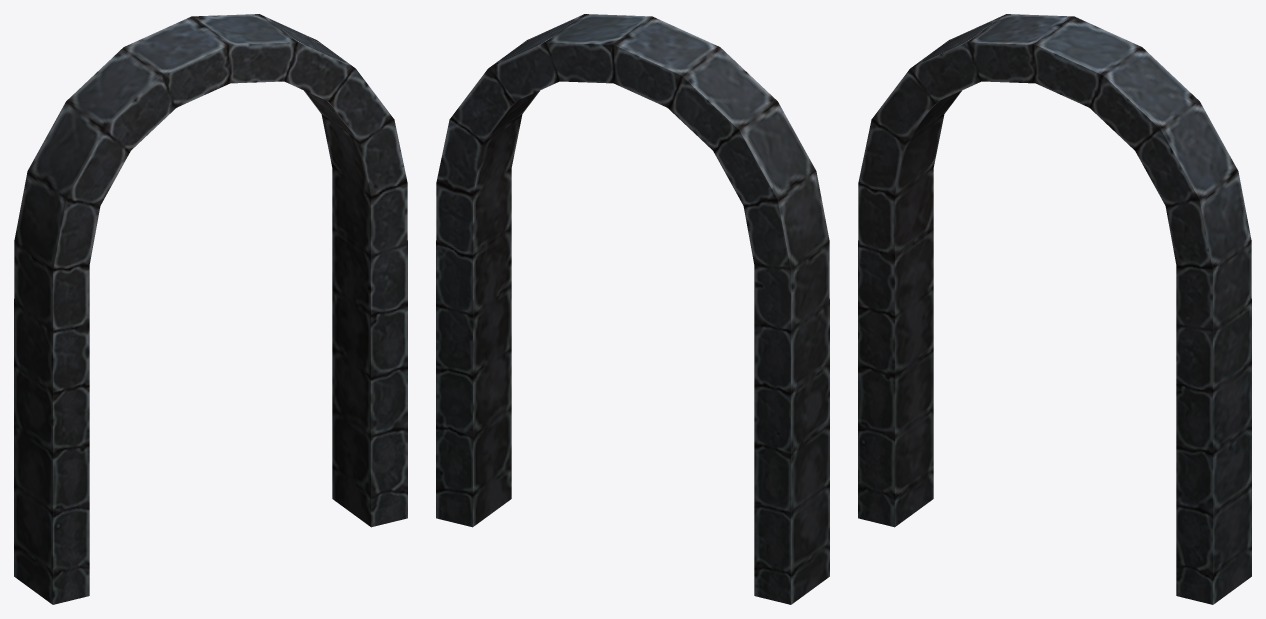
Rendered from Arc_Solo (1).fbx.
3 renders of one model, left to right at view 1: azimuth 30°, elevation 25°; view 2: azimuth 150°, elevation 25°; view 3: azimuth 330°, elevation 25°, orthographic.
Parts seen in each view (by area): view 1: ARC_Solo; view 2: ARC_Solo; view 3: ARC_Solo.
Boxes of the visible parts, bbox=[...] form: ARC_Solo: bbox=[14, 14, 407, 604]; ARC_Solo: bbox=[436, 14, 829, 604]; ARC_Solo: bbox=[858, 14, 1251, 604].
Size of the model in its own units: 286 by 397 by 54.12.
